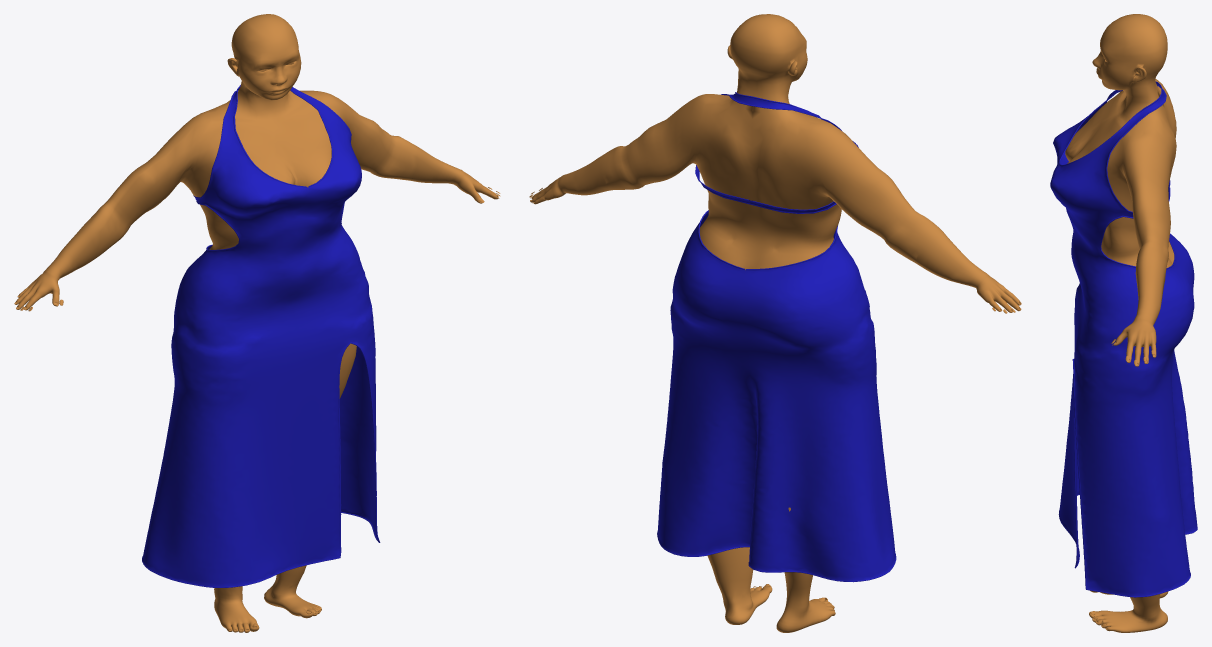
The model's file is dress9.glb.
The picture shows the model from 3 angles, left to right: view 1: azimuth 30°, elevation 25°; view 2: azimuth 150°, elevation 25°; view 3: azimuth 270°, elevation 25°; orthographic projection.
Visible parts, largest first — view 1: EveningDress, Body; view 2: EveningDress, Body; view 3: EveningDress, Body.
Boxes of the visible parts, box(x1,y1,x2,y2) form: EveningDress: box(142, 85, 380, 587); Body: box(14, 14, 499, 632); EveningDress: box(657, 92, 896, 582); Body: box(530, 14, 1021, 632); EveningDress: box(1050, 81, 1197, 597); Body: box(1065, 14, 1176, 632).
Bounding box in the file's own units: 1.59 × 1.88 × 0.4195.
